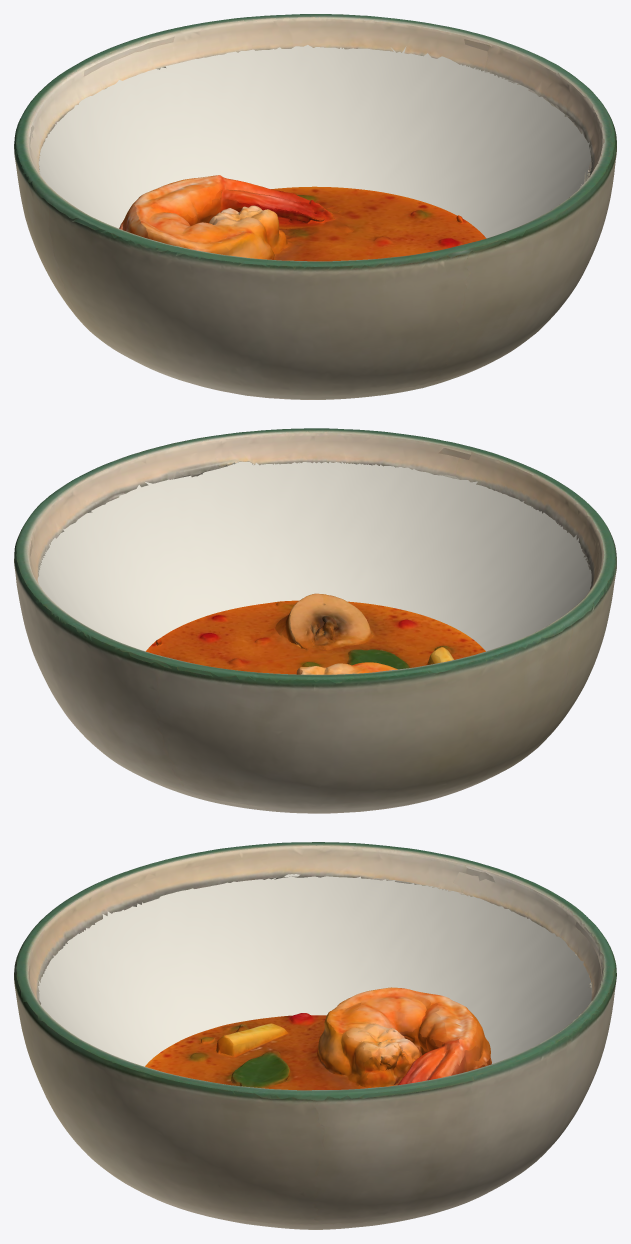
Rendered from tom-yum-3.glb.
3 views of the same model, one above another, from view 1: azimuth 30°, elevation 25°; view 2: azimuth 150°, elevation 25°; view 3: azimuth 270°, elevation 25° (orthographic).
Parts seen in each view (by area): view 1: canonical/sourceCeramic, canonical/inner-bowl-completion, food/independent-stage-3; view 2: canonical/sourceCeramic, canonical/inner-bowl-completion, food/independent-stage-3; view 3: canonical/sourceCeramic, canonical/inner-bowl-completion, food/independent-stage-3.
Part boxes in pixels (x1=…): canonical/sourceCeramic: x1=14, y1=14, x2=616, y2=399; canonical/inner-bowl-completion: x1=38, y1=45, x2=591, y2=238; food/independent-stage-3: x1=119, y1=175, x2=486, y2=261; canonical/sourceCeramic: x1=14, y1=428, x2=616, y2=813; canonical/inner-bowl-completion: x1=37, y1=462, x2=591, y2=651; food/independent-stage-3: x1=146, y1=593, x2=485, y2=674; canonical/sourceCeramic: x1=14, y1=842, x2=616, y2=1229; canonical/inner-bowl-completion: x1=38, y1=874, x2=591, y2=1066; food/independent-stage-3: x1=145, y1=987, x2=491, y2=1090.
Bounding box in the file's own units: 2.61 × 0.8381 × 2.6.
Materials: 3 (2 with a texture image).
